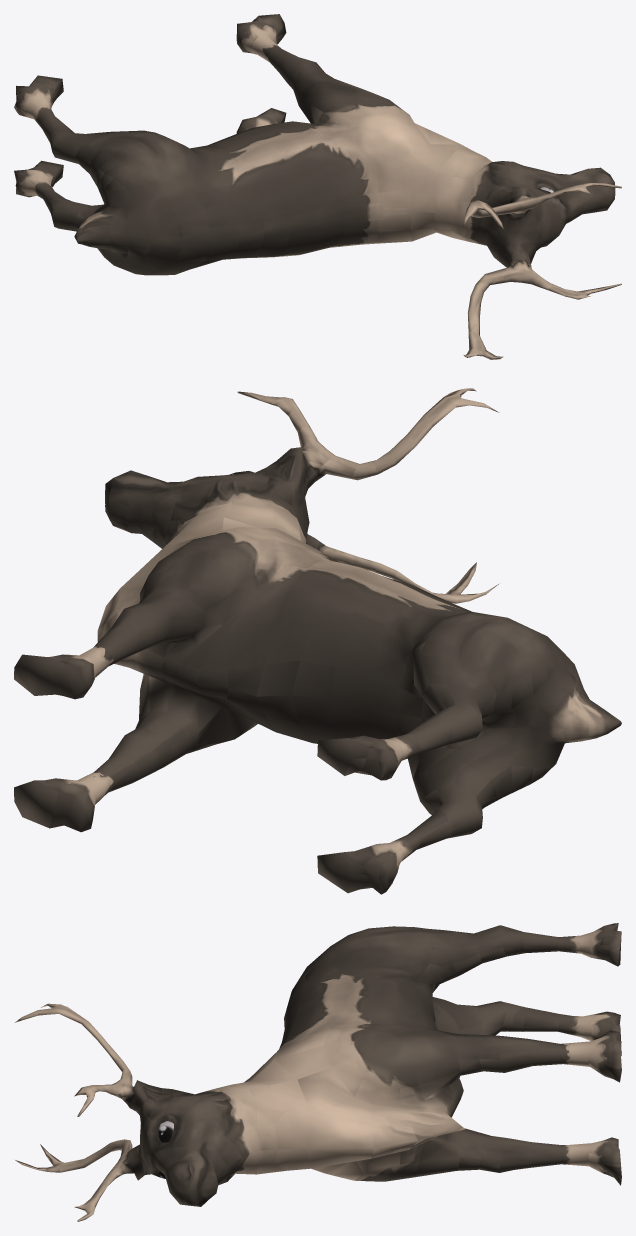
Rendered from reno_1.obj.
3 views of the same model, one above another, from view 1: azimuth 30°, elevation 25°; view 2: azimuth 150°, elevation 25°; view 3: azimuth 270°, elevation 25° (orthographic). The views are drawn at different scales.
Visible parts, largest first — view 1: reindeer_Mesh; view 2: reindeer_Mesh; view 3: reindeer_Mesh.
Part boxes in pixels (bbox=[...]): reindeer_Mesh: bbox=[14, 14, 621, 359]; reindeer_Mesh: bbox=[14, 388, 621, 894]; reindeer_Mesh: bbox=[14, 923, 621, 1221].
Bounding box in the file's own units: 0.733 × 0.2296 × 0.7786.
